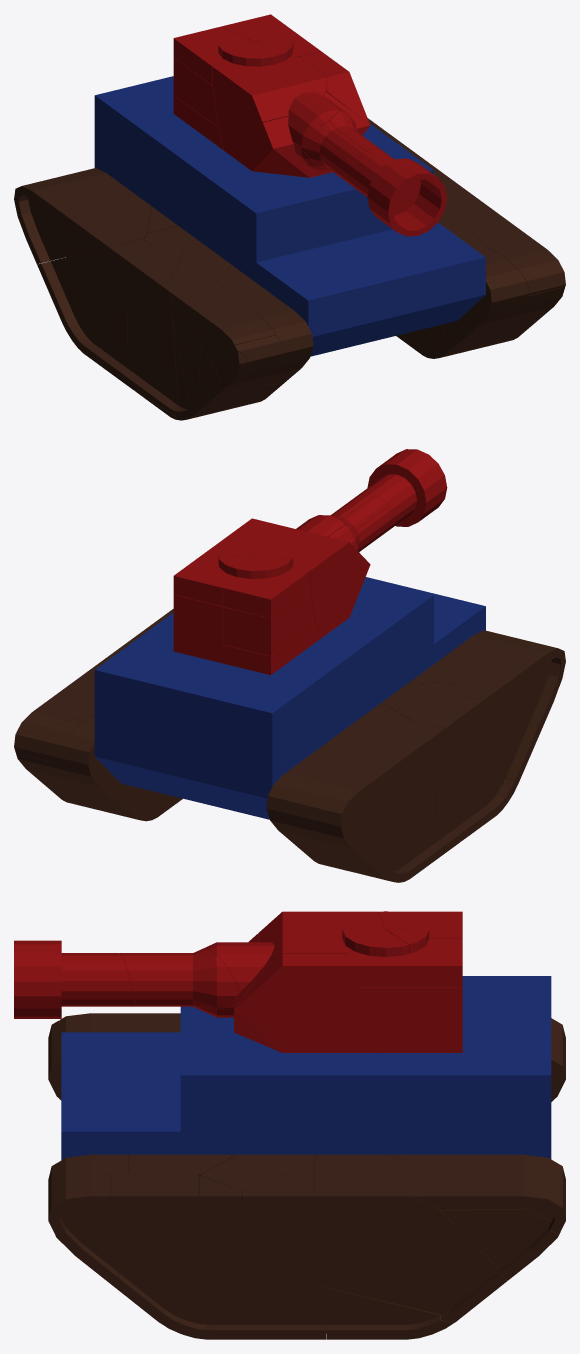
File: FracturedTank - Test.fbx
The picture shows the model from 3 angles, top to bottom: view 1: azimuth 30°, elevation 25°; view 2: azimuth 150°, elevation 25°; view 3: azimuth 270°, elevation 25°; orthographic projection. The views are drawn at different scales.
Parts seen in each view (by area): view 1: Body, Tracks.001_cell.014, Tracks.001_cell.011, Tracks.001_cell.012, Top_cell.007, Body_cell.015, Body_cell.003, Tracks.001_cell, Barrel.001_cell.006, Tracks.001_cell.009, Body_cell.006, Top_cell (+39 smaller); view 2: Body, Tracks.001_cell.014, Tracks.001_cell.011, Tracks.001_cell.012, Body_cell.015, Top_cell.007, Body_cell.019, Tracks.001_cell, Body_cell.017, Top_cell.002, Tracks.001_cell.007, Tracks_cell.010 (+34 smaller); view 3: Body, Tracks_cell.013, Top_cell.008, Tracks_cell.002, Tracks_cell.012, Tracks_cell.011, Body_cell.011, Tracks_cell.009, Top_cell.006, Body_cell.001, Barrel_cell.001, Tracks_cell.001 (+31 smaller).
Part boxes in pixels (bbox=[...]): Body: bbox=[94, 76, 485, 356]; Tracks.001_cell.014: bbox=[14, 176, 151, 264]; Tracks.001_cell.011: bbox=[37, 238, 151, 378]; Tracks.001_cell.012: bbox=[118, 245, 184, 415]; Top_cell.007: bbox=[213, 56, 327, 156]; Body_cell.015: bbox=[175, 144, 299, 237]; Body_cell.003: bbox=[176, 180, 325, 298]; Tracks.001_cell: bbox=[169, 278, 275, 370]; Barrel.001_cell.006: bbox=[367, 158, 446, 236]; Tracks.001_cell.009: bbox=[212, 263, 313, 383]; Body_cell.006: bbox=[94, 97, 215, 176]; Top_cell: bbox=[232, 116, 302, 174]; Body: bbox=[95, 585, 485, 812]; Tracks.001_cell.014: bbox=[310, 727, 434, 857]; Tracks.001_cell.011: bbox=[335, 720, 445, 882]; Tracks.001_cell.012: bbox=[392, 696, 501, 853]; Body_cell.015: bbox=[313, 584, 433, 677]; Top_cell.007: bbox=[252, 524, 359, 638]; Body_cell.019: bbox=[130, 705, 236, 769]; Tracks.001_cell: bbox=[447, 638, 560, 716]; Body_cell.017: bbox=[139, 653, 265, 726]; Top_cell.002: bbox=[222, 590, 315, 655]; Tracks.001_cell.007: bbox=[266, 747, 330, 849]; Tracks_cell.010: bbox=[57, 715, 131, 808]; Body: bbox=[61, 976, 551, 1159]; Tracks_cell.013: bbox=[315, 1154, 507, 1322]; Top_cell.008: bbox=[234, 954, 378, 1052]; Tracks_cell.002: bbox=[183, 1163, 317, 1338]; Tracks_cell.012: bbox=[50, 1172, 198, 1284]; Tracks_cell.011: bbox=[111, 1175, 242, 1333]; Body_cell.011: bbox=[121, 1103, 363, 1153]; Tracks_cell.009: bbox=[197, 1237, 326, 1339]; Top_cell.006: bbox=[360, 987, 462, 1052]; Body_cell.001: bbox=[180, 1050, 365, 1103]; Barrel_cell.001: bbox=[121, 949, 240, 1009]; Tracks_cell.001: bbox=[412, 1165, 561, 1210].
Bounding box in the file's own units: 257 × 208 × 327.
